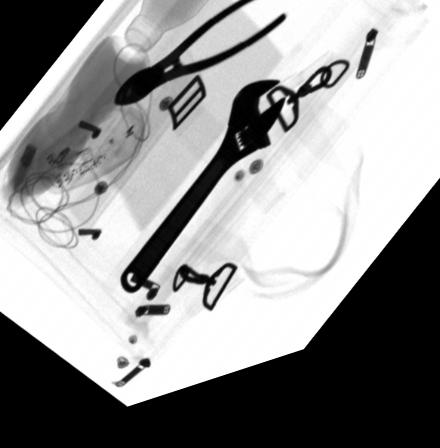Pliers: (110, 0, 287, 115)
Wrench: (117, 95, 286, 300)
